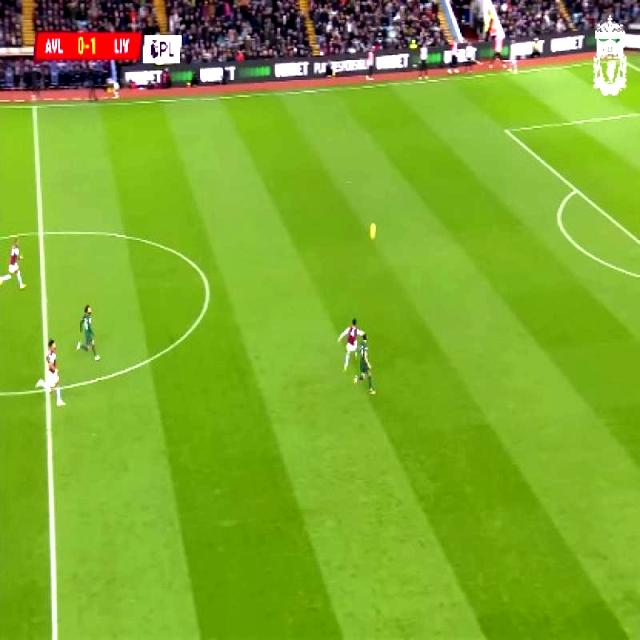bigarea_top_inner: (500, 124, 512, 138)
halfcircle_bottom: (37, 380, 58, 398)
halfcircle_top: (32, 223, 48, 243)
midline_top_intersection: (28, 97, 40, 115)
top_arc_area_intersection: (570, 183, 580, 197)
